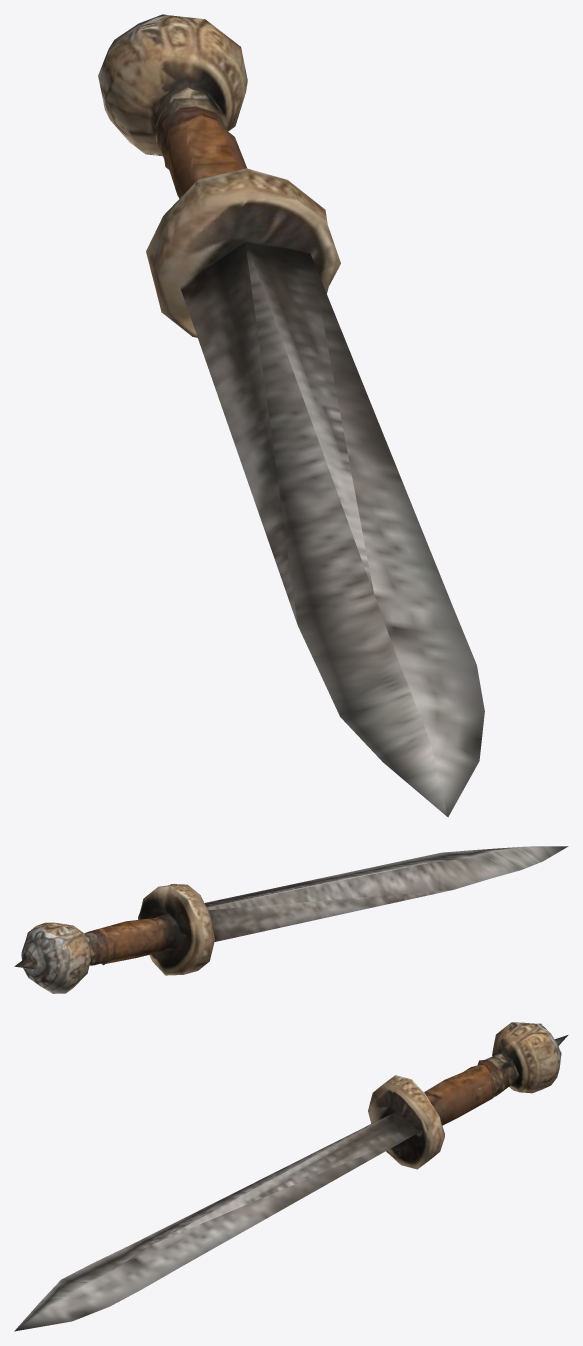
The model's file is WPN_SWORD.glb.
The picture shows the model from 3 angles, top to bottom: view 1: azimuth 30°, elevation 25°; view 2: azimuth 150°, elevation 25°; view 3: azimuth 330°, elevation 25°; orthographic projection. The views are drawn at different scales.
Visible parts, largest first — view 1: WPN_SWORD; view 2: WPN_SWORD; view 3: WPN_SWORD.
Part boxes in pixels (box(x1,y1,x2,y2)): WPN_SWORD: box(98, 14, 484, 817); WPN_SWORD: box(14, 846, 568, 993); WPN_SWORD: box(14, 1022, 568, 1331).
Size of the model in its own units: 0.1292 by 0.0626 by 0.3542.
1 material, 1 textured.
